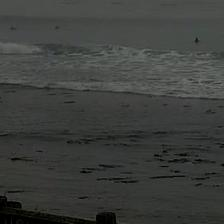surfer: (194, 38, 199, 44), (54, 25, 60, 30), (10, 26, 16, 30)
